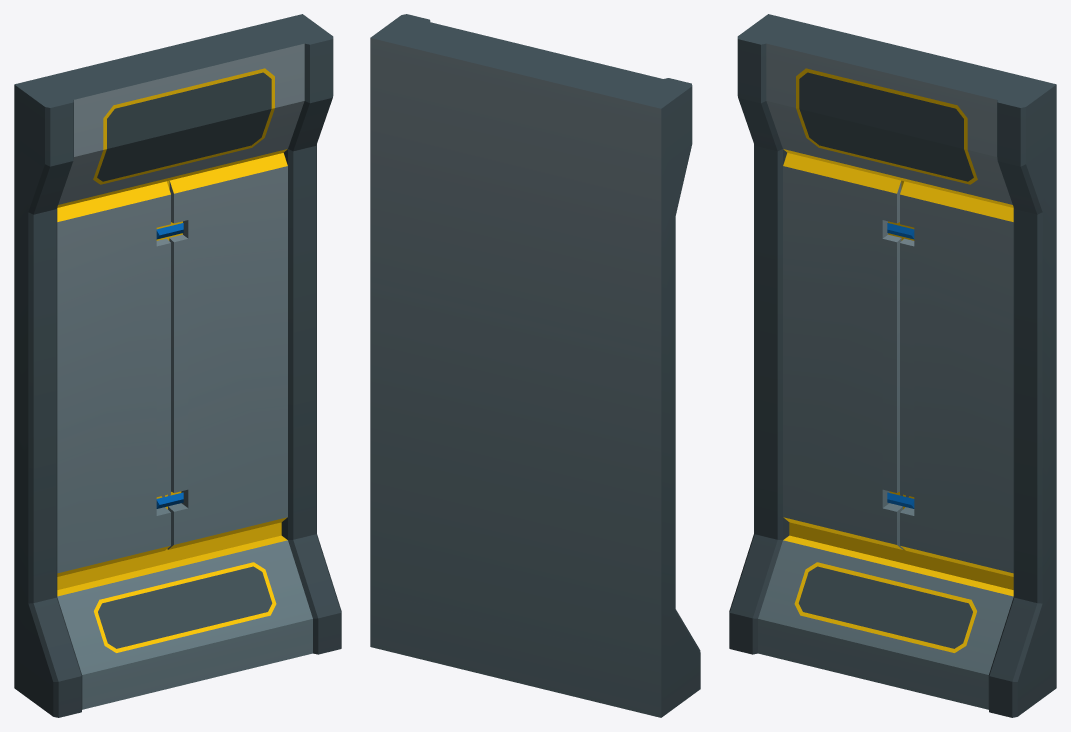
The model's file is Wall_type_C_007.fbx.
3 views of the same model, side by side, from view 1: azimuth 30°, elevation 25°; view 2: azimuth 150°, elevation 25°; view 3: azimuth 330°, elevation 25° (orthographic).
Visible parts, largest first — view 1: Wall_type_C_007; view 2: Wall_type_C_007; view 3: Wall_type_C_007.
Boxes of the visible parts, x1=… form: Wall_type_C_007: x1=14, y1=14, x2=341, y2=717; Wall_type_C_007: x1=370, y1=14, x2=700, y2=717; Wall_type_C_007: x1=729, y1=14, x2=1056, y2=717.
Size of the model in its own units: 200 by 50 by 400.
